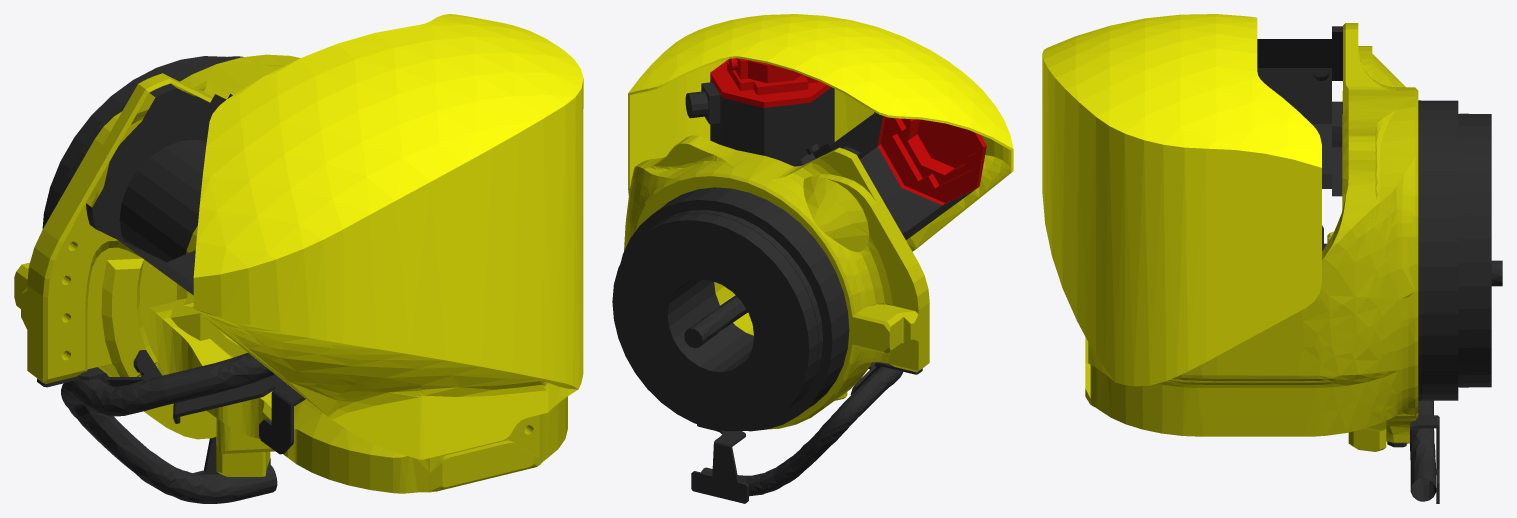
3 renders of one model, left to right at view 1: azimuth 30°, elevation 25°; view 2: azimuth 150°, elevation 25°; view 3: azimuth 270°, elevation 25°, orthographic. The views are drawn at different scales.
Parts seen in each view (by area): view 1: node; view 2: node; view 3: node.
Boxes of the visible parts, x1,y1,x2,y2 form: node: (14,14,583,503); node: (612,14,1013,503); node: (1042,14,1502,503).
Size of the model in its own units: 403 by 467 by 428.
